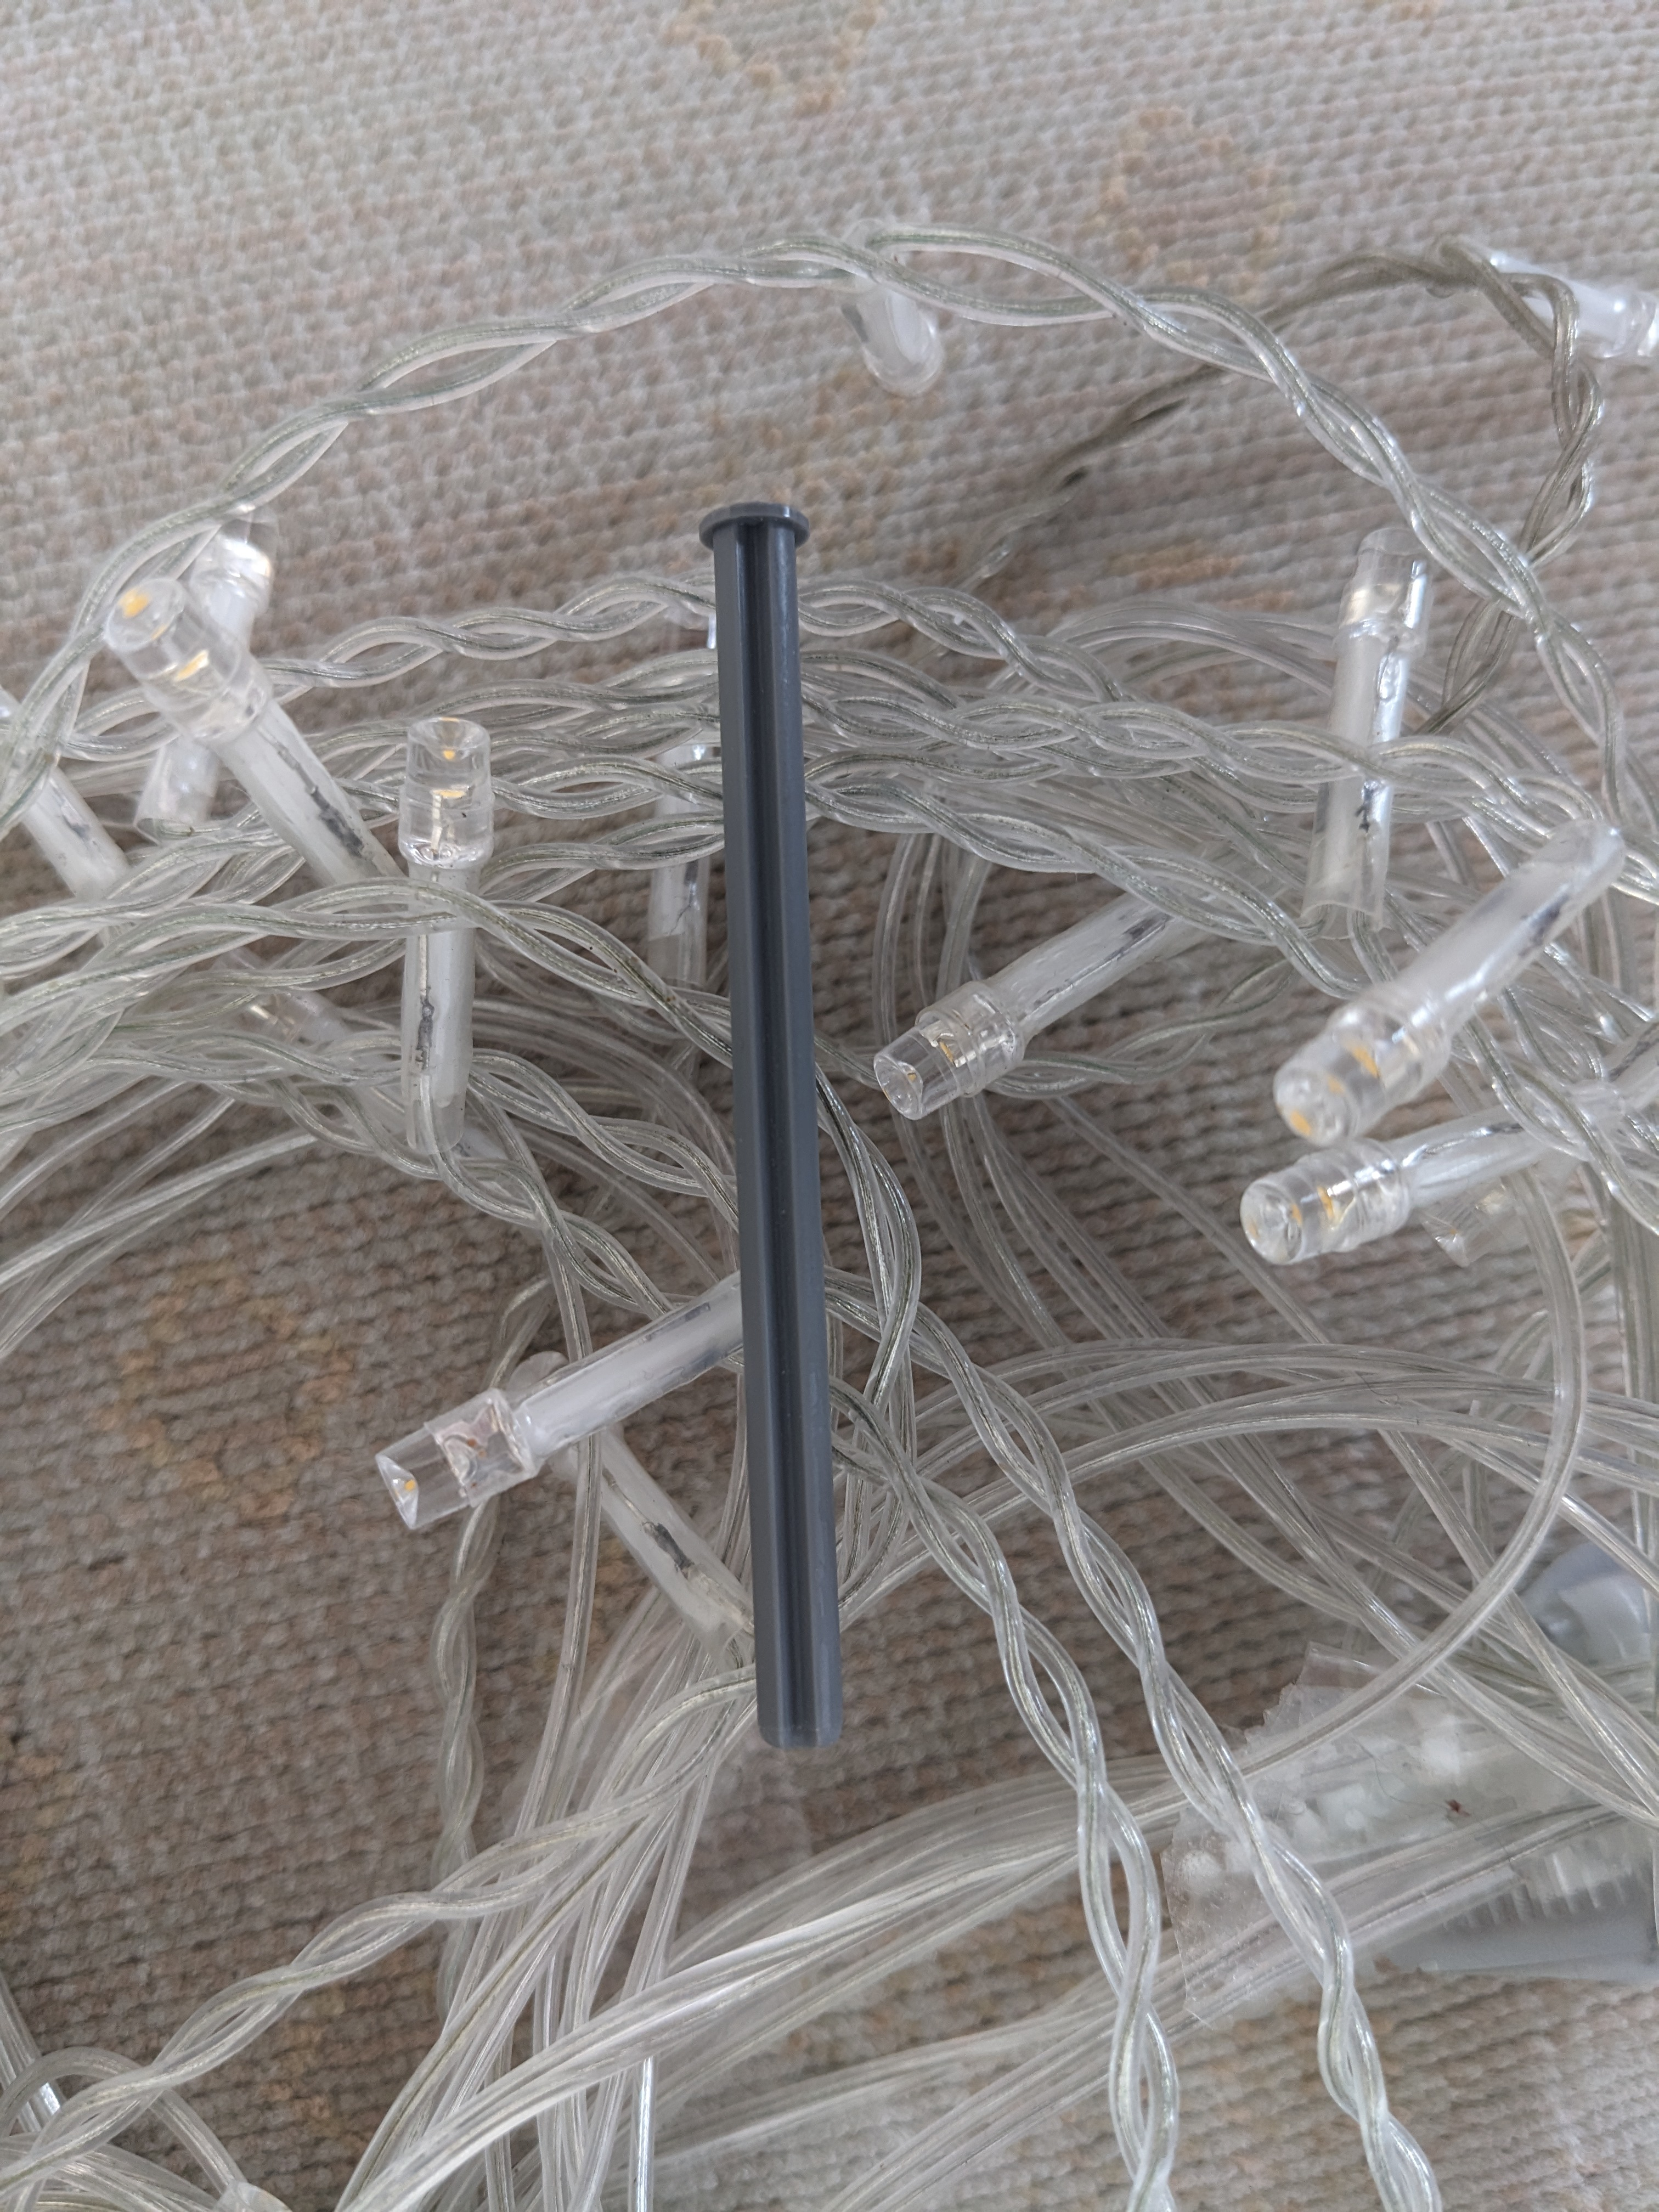Grau_lang: (680, 488, 897, 1787)
